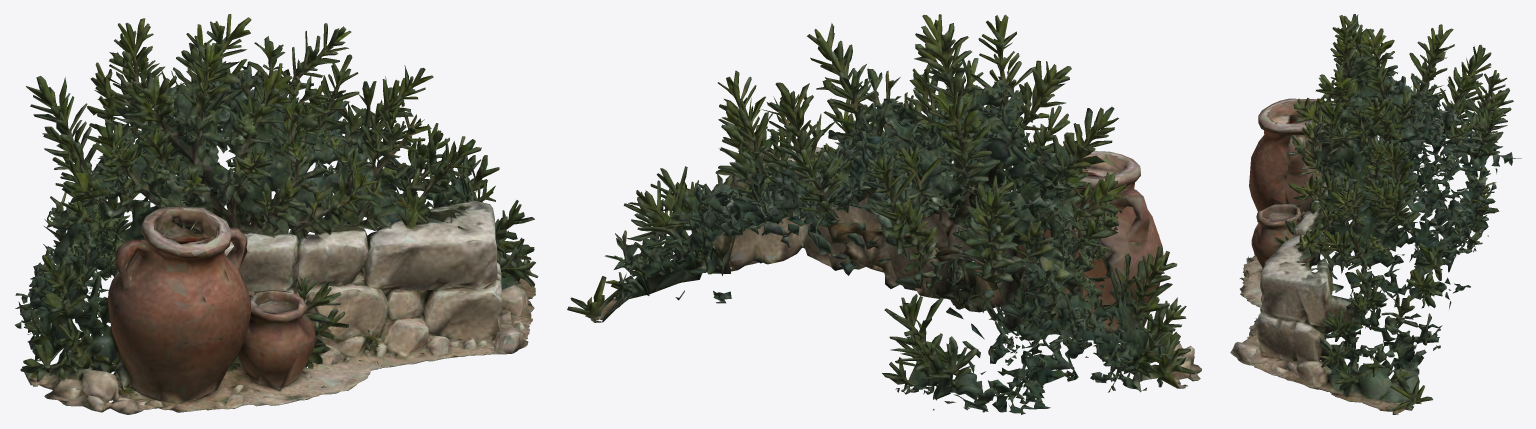
Rendered from olive-wall-cluster-a.glb.
The picture shows the model from 3 angles, left to right: view 1: azimuth 30°, elevation 25°; view 2: azimuth 150°, elevation 25°; view 3: azimuth 270°, elevation 25°; orthographic projection. The views are drawn at different scales.
Parts seen in each view (by area): view 1: geometry_0; view 2: geometry_0; view 3: geometry_0.
Boxes of the visible parts, box(x1,y1,x2,y2) form: geometry_0: box(15, 14, 538, 414); geometry_0: box(567, 14, 1201, 414); geometry_0: box(1230, 14, 1521, 414).
Bounding box in the file's own units: 2.14 × 1.25 × 1.26.
1 material, 1 textured.
